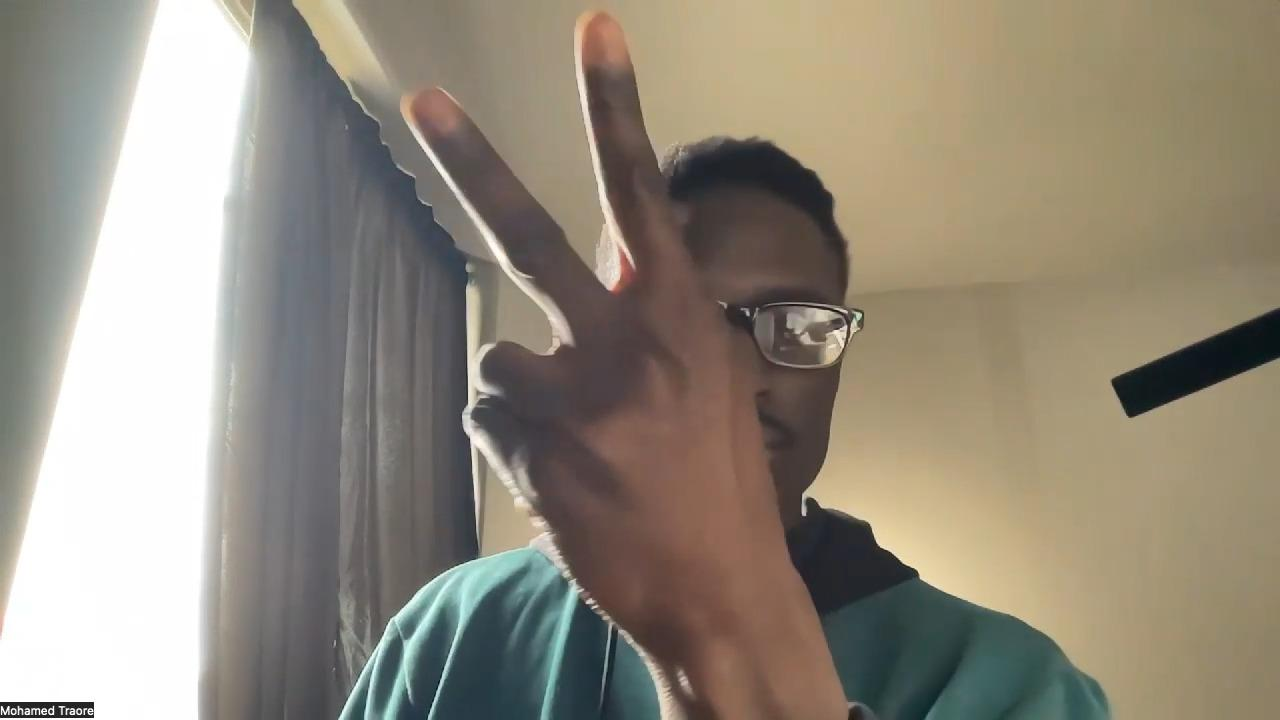Scissors: (403, 10, 799, 651)
